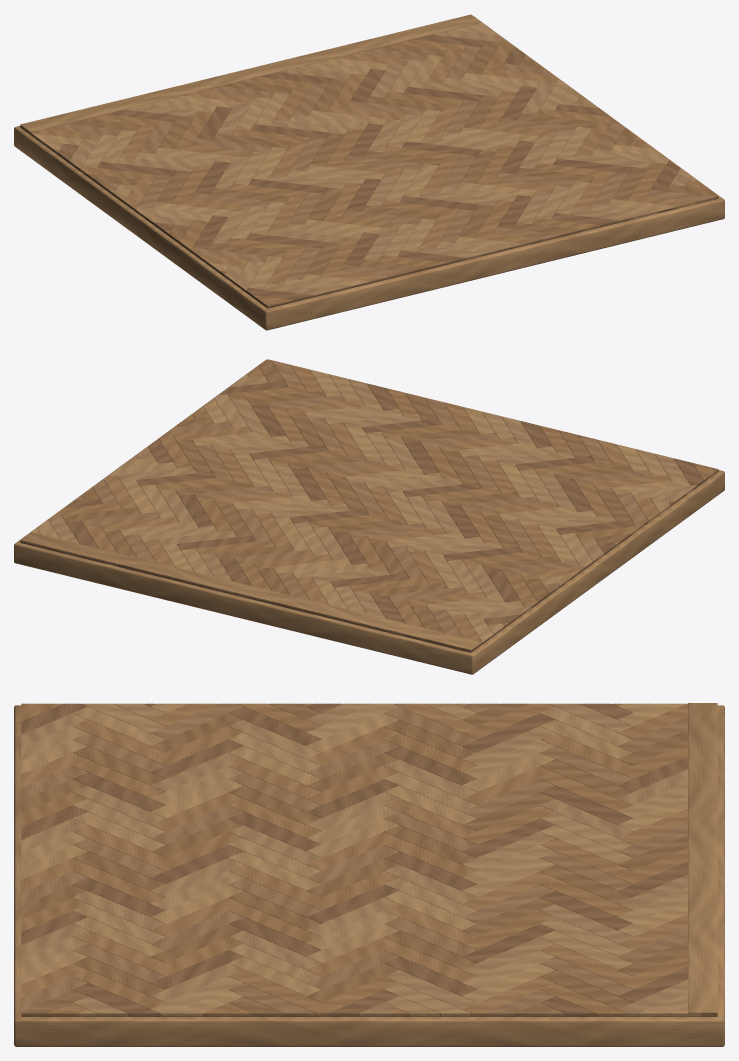
File: tidy-study-room.glb
3 views of the same model, one above another, from view 1: azimuth 30°, elevation 25°; view 2: azimuth 150°, elevation 25°; view 3: azimuth 270°, elevation 25° (orthographic). The views are drawn at different scales.
Parts seen in each view (by area): view 1: study_continuous_floor_mesh; view 2: study_continuous_floor_mesh; view 3: study_continuous_floor_mesh.
Part boxes in pixels (left/top/right/bottom): study_continuous_floor_mesh: left=14, top=14, right=724, bottom=330; study_continuous_floor_mesh: left=14, top=359, right=724, bottom=674; study_continuous_floor_mesh: left=14, top=703, right=724, bottom=1046.
Size of the model in its own units: 1.46 by 0.0695 by 1.39.
Materials: 10 (10 with a texture image).
